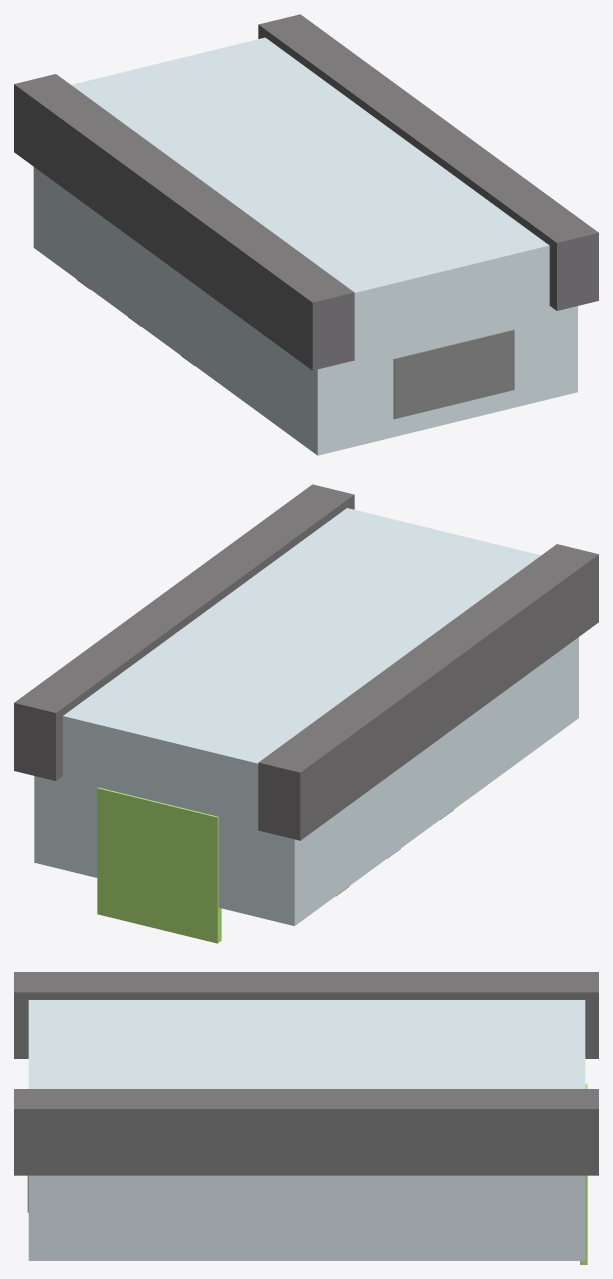
The model's file is Kodak_scene2.gltf.
The picture shows the model from 3 angles, top to bottom: view 1: azimuth 30°, elevation 25°; view 2: azimuth 150°, elevation 25°; view 3: azimuth 270°, elevation 25°; orthographic projection. The views are drawn at different scales.
Parts seen in each view (by area): view 1: Wall, History; view 2: Wall, Door; view 3: Wall.
Boxes of the visible parts, x1=… form: Wall: x1=14, y1=14, x2=598, y2=455; History: x1=393, y1=329, x2=514, y2=419; Wall: x1=14, y1=484, x2=598, y2=925; Door: x1=97, y1=787, x2=221, y2=943; Wall: x1=14, y1=972, x2=598, y2=1260.
Bounding box in the file's own units: 23.78 × 15.61 × 42.93.
